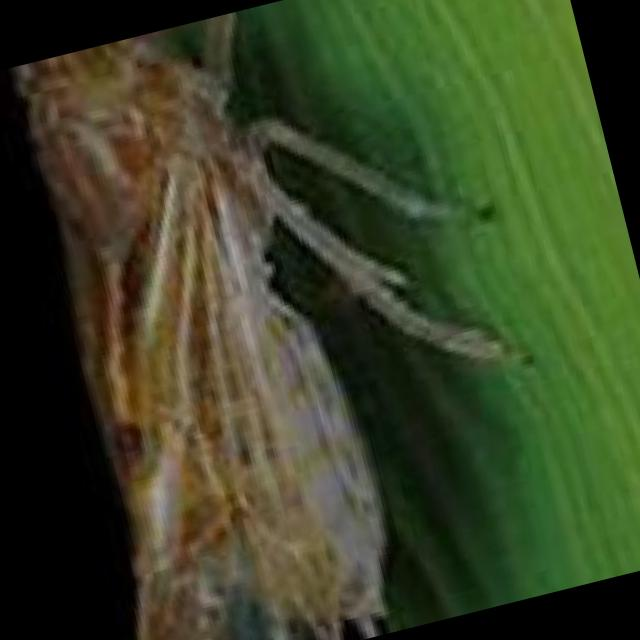brown-planthopper: (0, 4, 428, 640)
